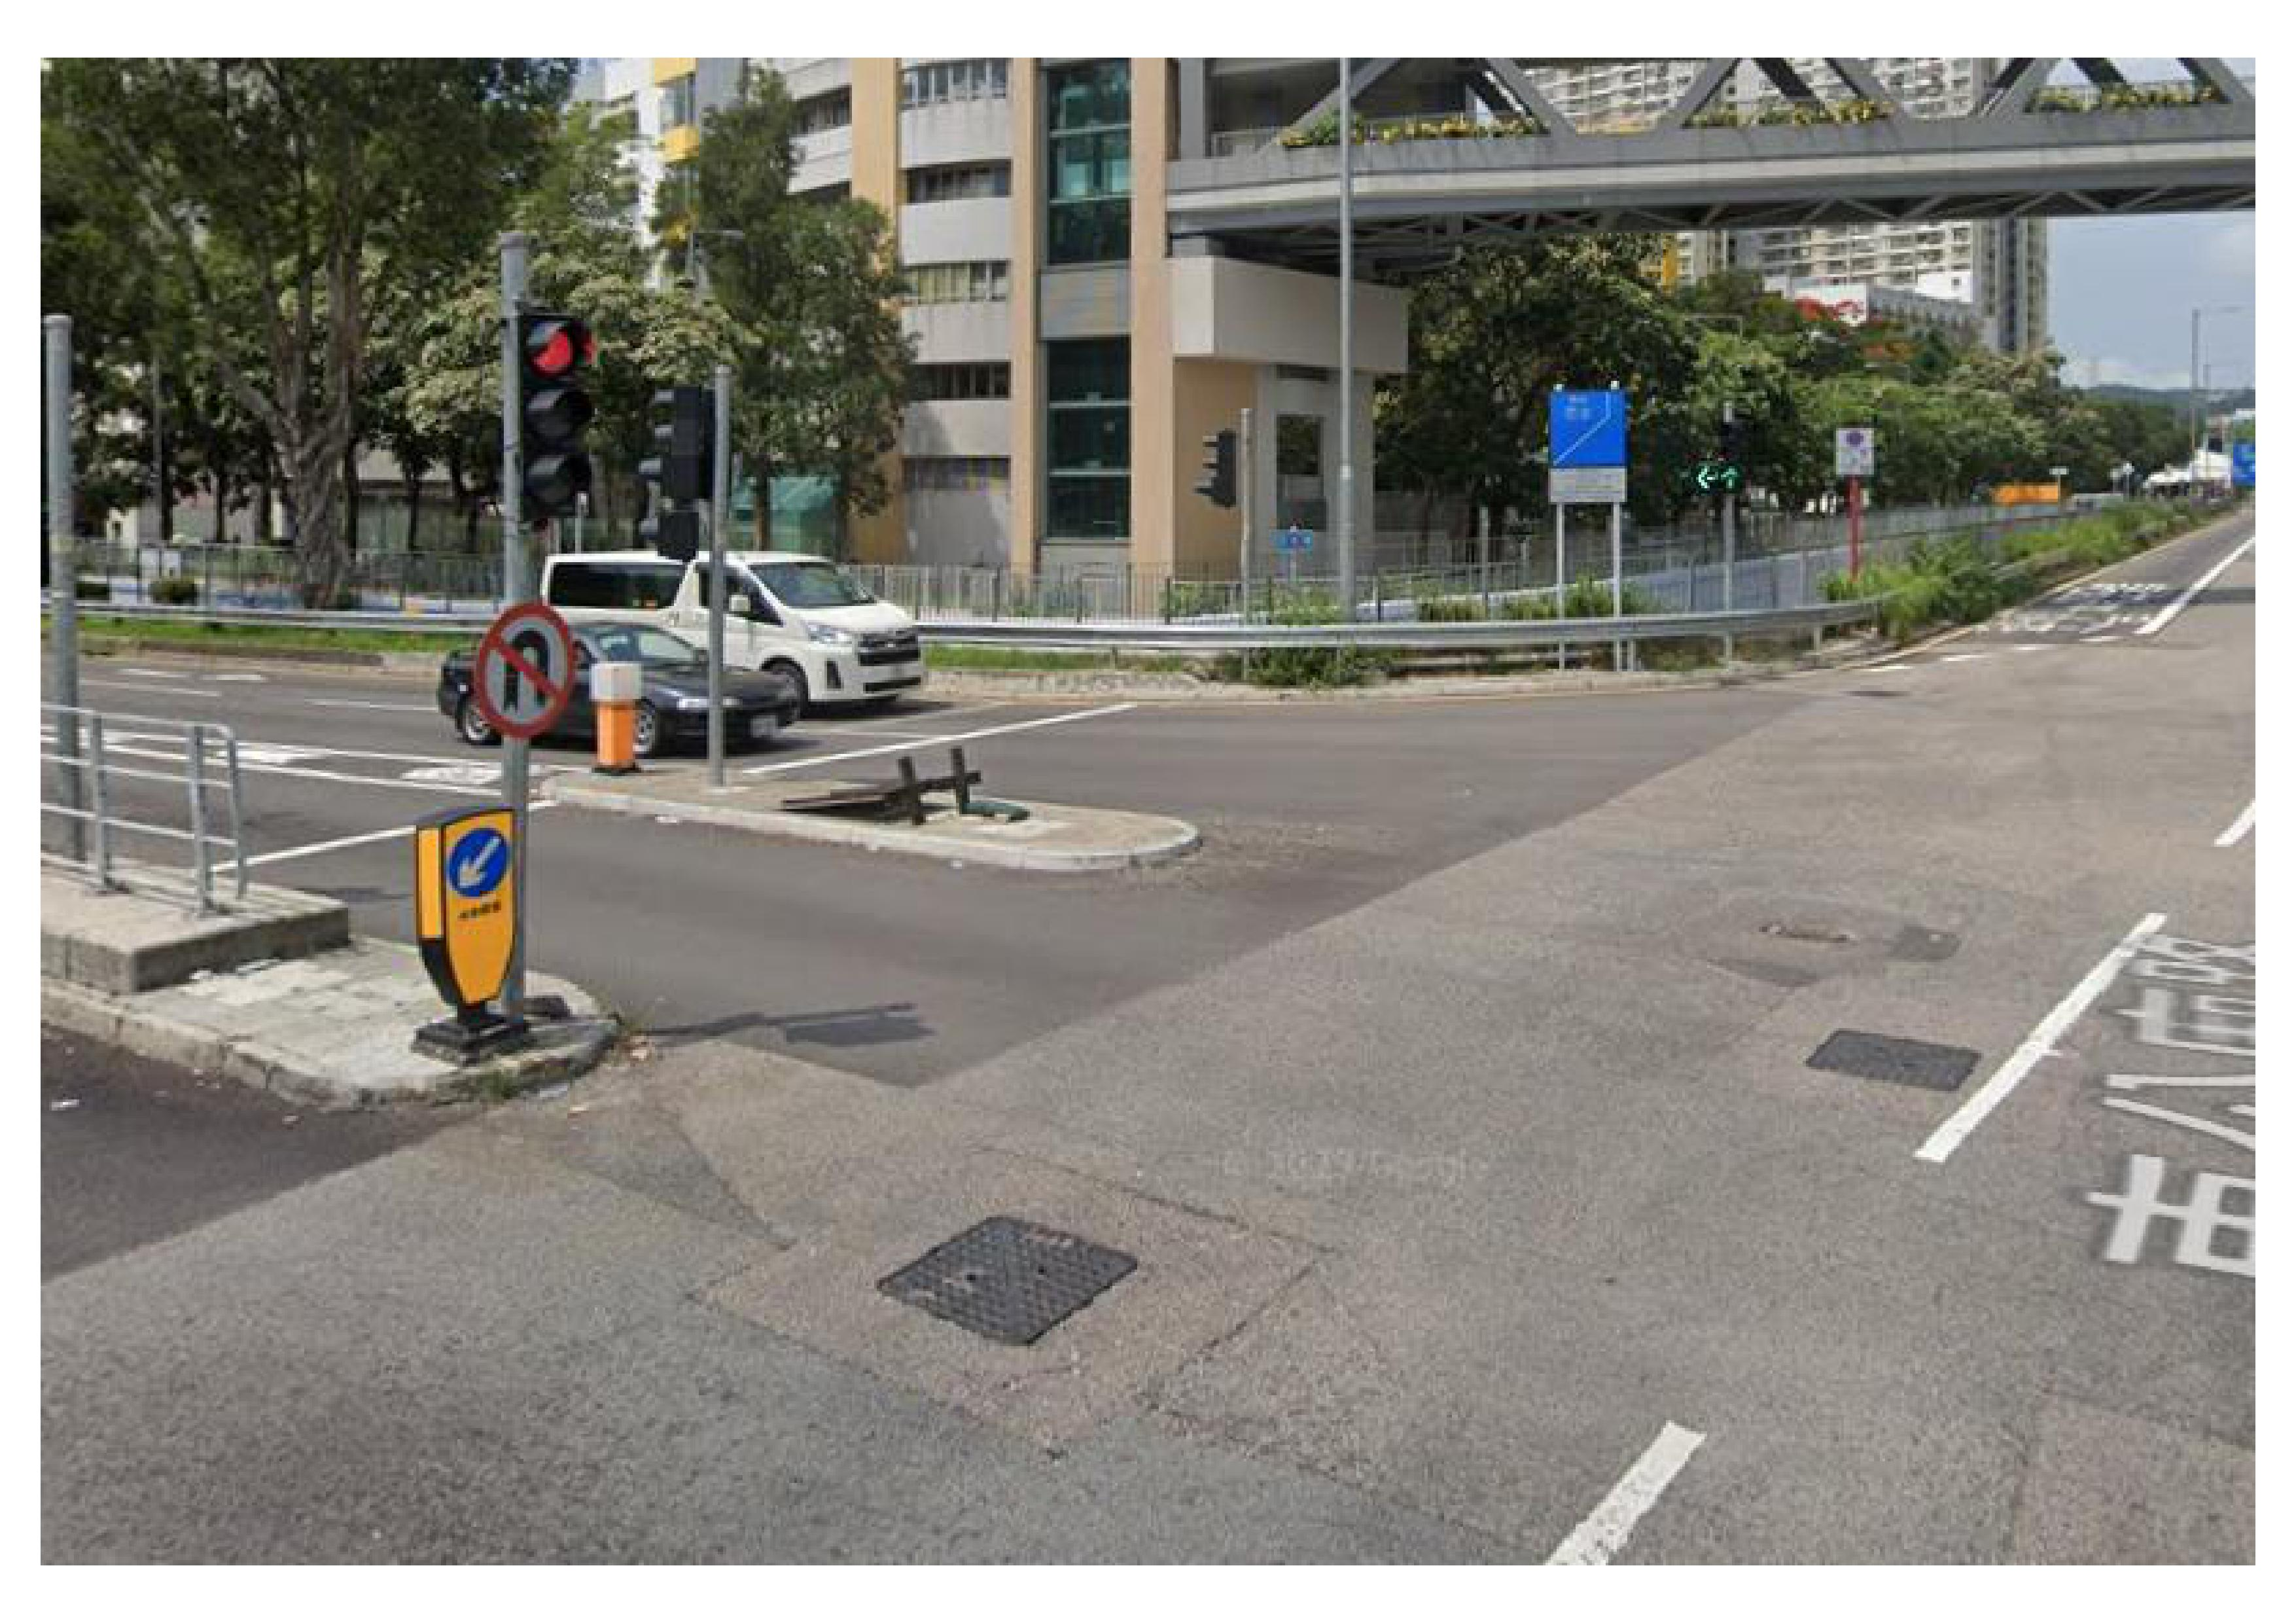No Uturn: (474, 604, 586, 732)
